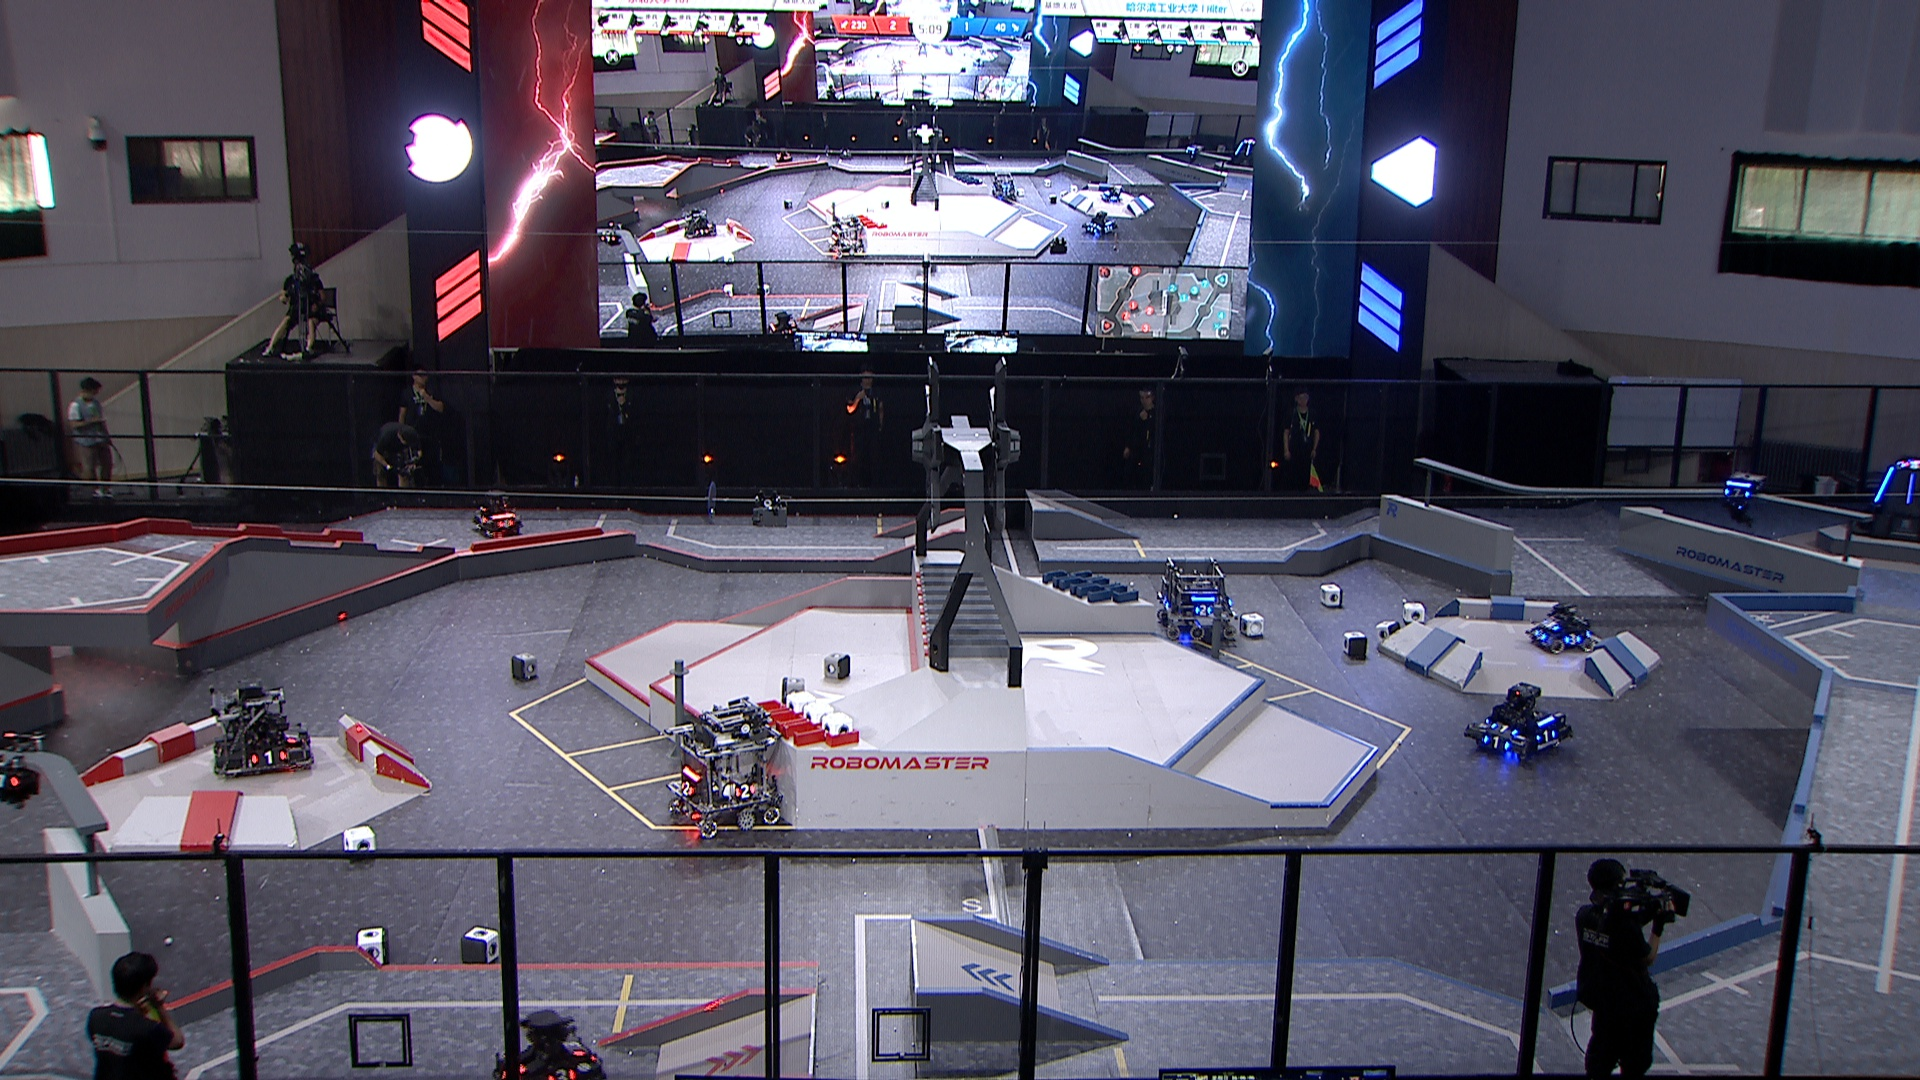armor: (1873, 463, 1896, 504), (1482, 733, 1513, 754), (251, 752, 286, 766), (1490, 719, 1515, 736), (1904, 471, 1916, 504), (733, 782, 756, 798), (547, 1068, 575, 1080), (564, 1038, 584, 1054), (284, 728, 301, 745), (1536, 731, 1557, 744), (679, 781, 694, 799), (1531, 626, 1547, 642), (1727, 488, 1747, 500), (1196, 604, 1212, 618), (1567, 633, 1581, 646), (301, 736, 313, 752), (1539, 618, 1557, 628), (476, 509, 487, 524), (498, 518, 514, 527)
base: (1849, 448, 1920, 542)
car: (661, 699, 789, 836), (200, 680, 318, 778), (1461, 683, 1572, 764), (491, 1007, 596, 1080), (1156, 556, 1240, 647), (1528, 599, 1598, 655), (468, 487, 524, 542)
ignore: (822, 214, 870, 262), (680, 210, 717, 237), (1229, 135, 1259, 167), (1079, 211, 1116, 237), (992, 169, 1022, 200), (597, 224, 626, 245), (1098, 182, 1124, 206), (1183, 138, 1205, 161), (774, 146, 794, 164), (1899, 460, 1920, 472)
watcher: (1720, 463, 1760, 527)
